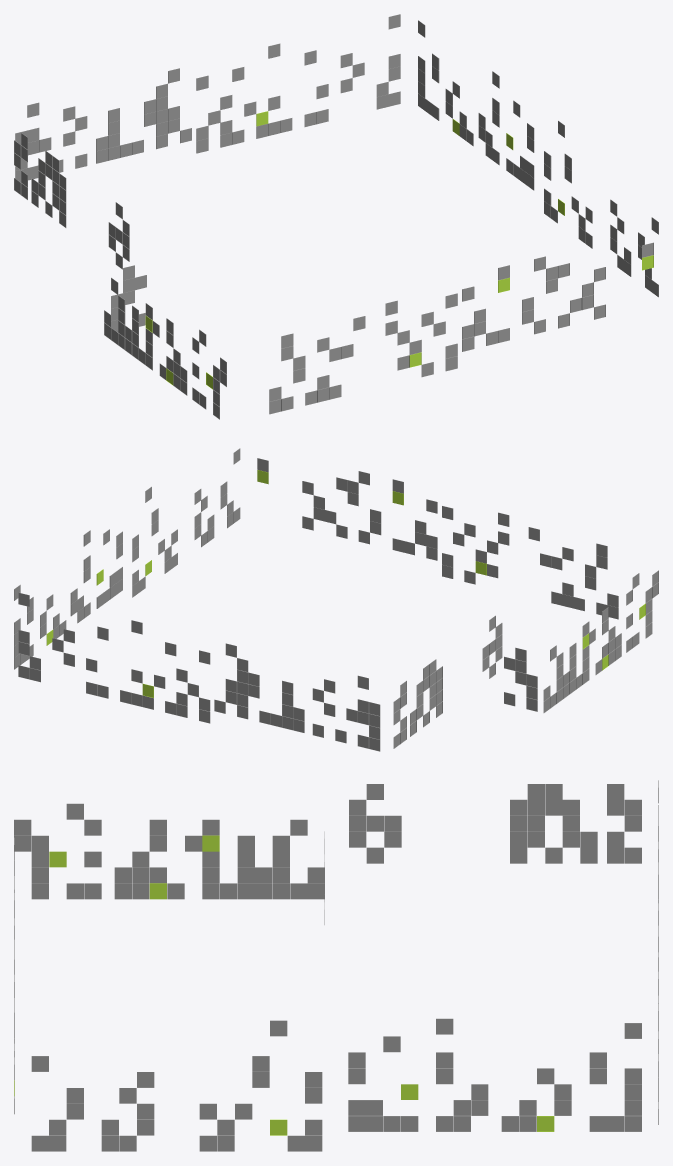
Rendered from Prop_WallTile.fbx.
The picture shows the model from 3 angles, top to bottom: view 1: azimuth 30°, elevation 25°; view 2: azimuth 150°, elevation 25°; view 3: azimuth 270°, elevation 25°; orthographic projection. The views are drawn at different scales.
Visible parts, largest first — view 1: Prop_WallTile; view 2: Prop_WallTile; view 3: Prop_WallTile.
Part boxes in pixels (bbox=[...]): Prop_WallTile: bbox=[14, 14, 658, 419]; Prop_WallTile: bbox=[14, 448, 658, 751]; Prop_WallTile: bbox=[14, 780, 658, 1151].
Size of the model in its own units: 2235 by 586 by 2240.
